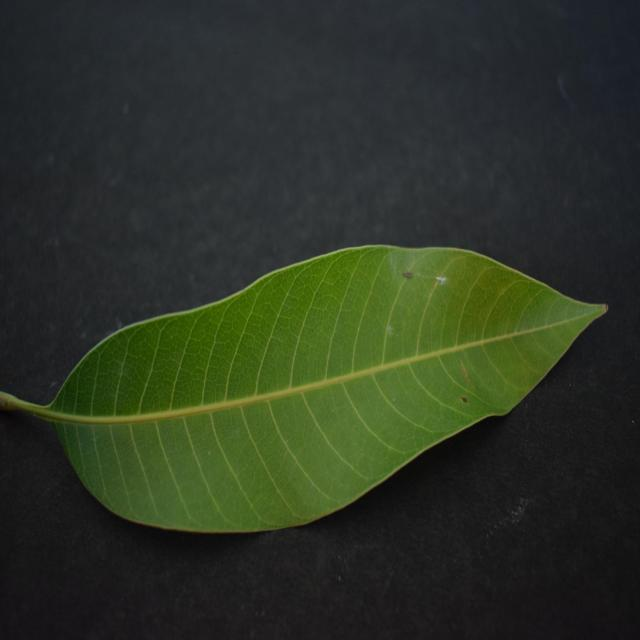healthy: (0, 247, 606, 532)
